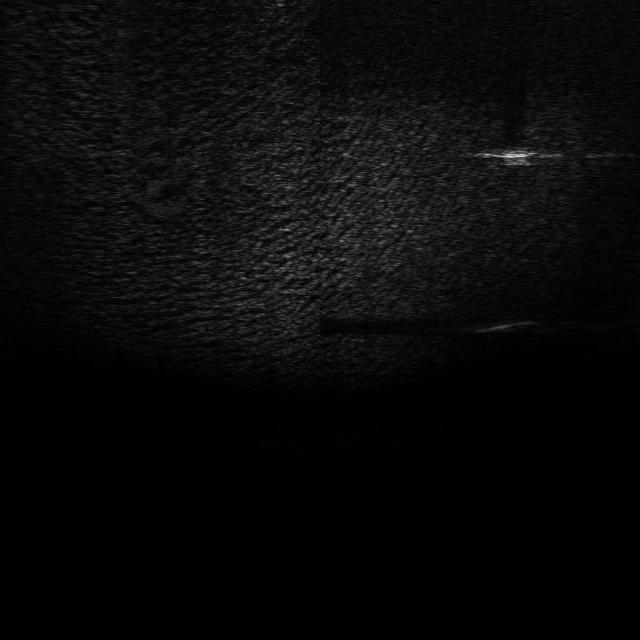cube: (496, 144, 536, 168)
